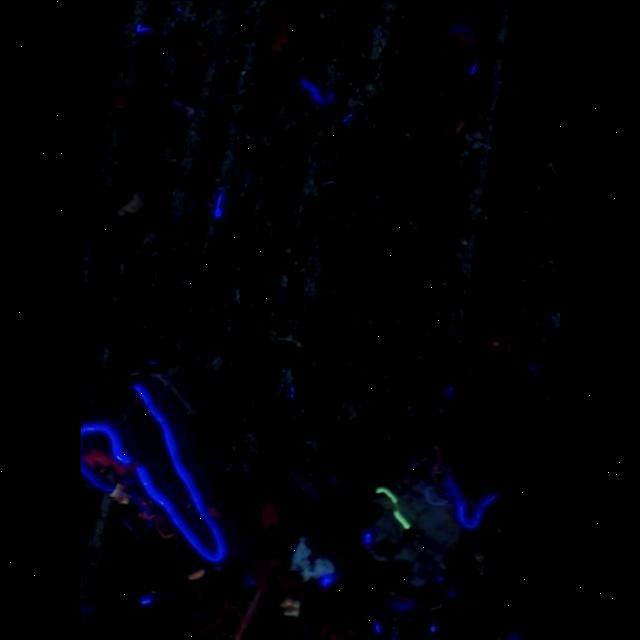Fibre: (110, 190, 144, 218)
